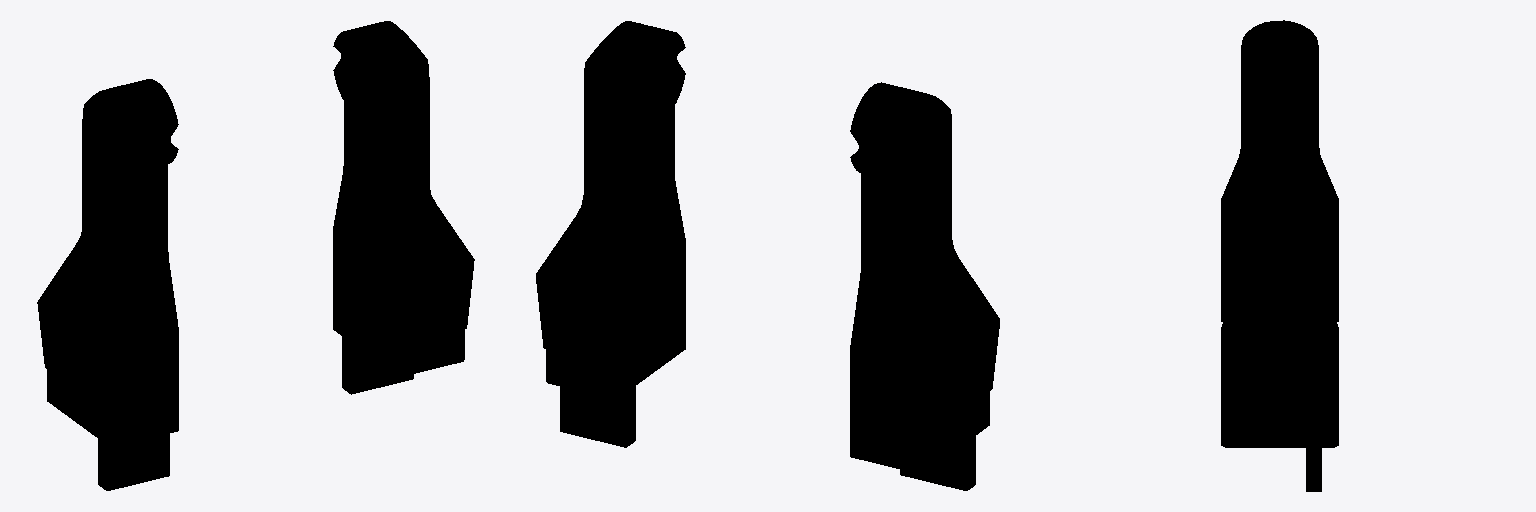
The robot description file, URDF, robot "wsg_50":
<?xml version="1.0"?>
<robot name="wsg_50" 

       xmlns:xi="http://www.w3.org/2001/XInclude"
       xmlns:gazebo="http://playerstage.sourceforge.net/gazebo/xmlschema/#gz"
       xmlns:model="http://playerstage.sourceforge.net/gazebo/xmlschema/#model"
       xmlns:sensor="http://playerstage.sourceforge.net/gazebo/xmlschema/#sensor"
       xmlns:body="http://playerstage.sourceforge.net/gazebo/xmlschema/#body"
       xmlns:geom="http://playerstage.sourceforge.net/gazebo/xmlschema/#geom"
       xmlns:joint="http://playerstage.sourceforge.net/gazebo/xmlschema/#joint"
       xmlns:interface="http://playerstage.sourceforge.net/gazebo/xmlschema/#interface"
       xmlns:rendering="http://playerstage.sourceforge.net/gazebo/xmlschema/#rendering"
       xmlns:renderable="http://playerstage.sourceforge.net/gazebo/xmlschema/#renderable"
       xmlns:controller="http://playerstage.sourceforge.net/gazebo/xmlschema/#controller"
       xmlns:physics="http://playerstage.sourceforge.net/gazebo/xmlschema/#physics">

 <!-- BASE LINK -->
 <link name="base_link">
      <inertial>
          <mass value="1.2" />
          <origin xyz="0 0 0" />
     	  <!--inertia ixx="1.0" ixy="0.0" ixz="0.0"
               iyy="100.0" iyz="0.0" 
               izz="1.0" /-->
      	  <inertia  ixx="1.0" ixy="0.0"  ixz="0.0"  iyy="1.0"  iyz="0.0"  izz="1.0" />
      </inertial>

      <visual>
          <origin xyz="0.0 0 0" rpy="0 0 0" />
          <geometry>
             <mesh filename="package://meshes/WSG50_110.stl" scale="1 1 1"/>
	     <!--box size="0.146 0.05 0.0735"/-->
          </geometry>
          <material name="grey">
		<color rgba="0.5 0.5 0.5 1"/>
      	  </material>
      </visual>

      <collision>
          <origin xyz="0.0 0 0" rpy="0 0 0" />
          <geometry>
	     <!--box size="0.146 0.05 0.0735"/-->
             <mesh filename="package://meshes/WSG50_110.stl" scale="1 1 1"/>
         </geometry>
     </collision>
  </link>

  <gazebo reference="base_link">
    <material>Gazebo/Grey</material>
    <turnGravityOff>false</turnGravityOff>
  </gazebo>

  <!-- GRIPPER LEFT -->

  <joint name="base_joint_gripper_left" type="prismatic">
     <limit lower="-0.055" upper="-0.0027" effort="1.0" velocity="1.0"/>
     <origin xyz="0 0 0" rpy="0 0 0" />      <!--origin xyz="-0.0067 0 0.049" rpy="0 0 0" /-->
     <parent link="base_link"/>
     <child link="gripper_left" />
     <dynamics friction="100" damping="100" />
     <axis xyz="1 0 0"/>
     <limit effort="100" velocity="100"/>
  </joint>

  <transmission name="base_trans_left" type="pr2_mechanism_model/SimpleTransmission">
     <actuator name="base_motor_left" />
     <joint name="base_joint_gripper_left" />
     <mechanicalReduction>1</mechanicalReduction>
     <motorTorqueConstant>1</motorTorqueConstant>
  </transmission>

  <link name="gripper_left">
      <inertial>
          <mass value="0.1" />
          <origin xyz="0 0 0" />
      <inertia ixx="1.0" ixy="0.0" ixz="0.0"
               iyy="1.0" iyz="0.0" 
               izz="1.0" />
      </inertial>

      <visual>
          <origin xyz="0.0 0 0" rpy="0 0 0" />
          <geometry>
             <mesh filename="package://meshes/GUIDE_WSG50_110.stl" scale="0.001 0.001 0.001"/>
	     <!--box size="0.0175 0.03 0.024"/-->
          </geometry>
          <material name="black">
		<color rgba="0 0 0 1"/>
      	  </material>
      </visual>

      <collision>
          <origin xyz="0 0 0" rpy="0 0 0" />
          <geometry>
	     <!--box size="0.0175 0.03 0.024"/-->
             <mesh filename="package://meshes/GUIDE_WSG50_110.stl" scale="0.001 0.001 0.001"/>
         </geometry>
     </collision>
  </link>

  <gazebo reference="gripper_left">
    <material>Gazebo/Blue</material>
    <turnGravityOff>false</turnGravityOff>
  </gazebo>


  <!-- LEFT FINGER -->

  <joint name="guide_joint_finger_left" type="fixed">
     <origin xyz="0 0 0.023" rpy="0 0 0" />
     <parent link="gripper_left"/>
     <child link="finger_left" />
     <dynamics friction="100" damping="100" />
     <axis xyz="1 0 0"/>
     <limit effort="100" velocity="100"/>
  </joint>

  <link name="finger_left">
      <inertial>
          <mass value="0.1" />
          <origin xyz="0 0 0" />
      <inertia ixx="1.0" ixy="0.0" ixz="0.0"
               iyy="1.0" iyz="0.0" 
               izz="1.0" />
      </inertial>

      <visual>
          <origin xyz="0.0 0 0" rpy="0 0 0" />
          <geometry>
             <mesh filename="package://meshes/WSG-FMF.stl" scale="0.001 0.001 0.001"/>
          </geometry>
          <material name="black">
		<color rgba="0 0 0 1"/>
      	  </material>
      </visual>

      <collision>
          <origin xyz="0 0 0" rpy="0 0 0" />
          <geometry>
             <mesh filename="package://meshes/WSG-FMF.stl" scale="0.001 0.001 0.001"/>
         </geometry>
     </collision>
  </link>

  <gazebo reference="finger_left">
    <material>Gazebo/Blue</material>
    <turnGravityOff>false</turnGravityOff>
  </gazebo>


  <!-- GRIPPER RIGHT -->

  <joint name="base_joint_gripper_right" type="prismatic">
     <limit lower="0.0027" upper="0.055" effort="1.0" velocity="1.0"/>
     <origin xyz="0 0 0" rpy="0 0 3.14159" />
     <parent link="base_link"/>
     <child link="gripper_right" />
     <axis xyz="-1 0 0"/>
     <dynamics friction="100" damping="100" />
     <limit effort="100" velocity="100"/>
  </joint>

  <transmission name="base_trans_right" type="pr2_mechanism_model/SimpleTransmission">
     <actuator name="base_motor_right" />
     <joint name="base_joint_gripper_right" />
     <mechanicalReduction>1</mechanicalReduction>
     <motorTorqueConstant>1</motorTorqueConstant>
  </transmission>
	
    <link name="gripper_right">
      <inertial>
          <mass value="0.1" />
          <origin xyz="0 0 0" />
      <inertia ixx="1.0" ixy="0.0" ixz="0.0"
               iyy="1.0" iyz="0.0" 
               izz="1.0" />
      </inertial>

      <visual>
          <origin xyz="0.0 0 0" rpy="0 0 0" />
          <geometry>
             <mesh filename="package://meshes/GUIDE_WSG50_110.stl" scale="0.001 0.001 0.001"/>
	     <!--box size="0.0175 0.03 0.024"/-->
          </geometry>
          <material name="black">
		<color rgba="0 0 0 1"/>
      	  </material>
      </visual>

      <collision>
          <origin xyz="0 0 0" rpy="0 0 0" />
          <geometry>
	     <!--box size="0.0175 0.03 0.024"/-->
             <mesh filename="package://meshes/GUIDE_WSG50_110.stl" scale="0.001 0.001 0.001"/>
         </geometry>
     </collision>
  </link>

  <gazebo reference="gripper_right">
    <material>Gazebo/White</material>
    <turnGravityOff>false</turnGravityOff>
  </gazebo>

  <!-- RIGHT FINGER -->

  <joint name="guide_joint_finger_right" type="fixed">
     <origin xyz="0 0 0.023" rpy="0 0 0" />
     <parent link="gripper_right"/>
     <child link="finger_right" />
     <dynamics friction="100" damping="100" />
     <axis xyz="1 0 0"/>
     <limit effort="100" velocity="100"/>
  </joint>

  <link name="finger_right">
      <inertial>
          <mass value="0.1" />
          <origin xyz="0 0 0" />
      <inertia ixx="1.0" ixy="0.0" ixz="0.0"
               iyy="1.0" iyz="0.0" 
               izz="1.0" />
      </inertial>

      <visual>
          <origin xyz="0.0 0 0" rpy="0 0 0" />
          <geometry>
             <mesh filename="package://meshes/WSG-FMF.stl" scale="0.001 0.001 0.001"/>
          </geometry>
          <material name="black">
		<color rgba="0 0 0 1"/>
      	  </material>
      </visual>

      <collision>
          <origin xyz="0 0 0" rpy="0 0 0" />
          <geometry>
             <mesh filename="package://meshes/WSG-FMF.stl" scale="0.001 0.001 0.001"/>
         </geometry>
     </collision>
  </link>

  <gazebo reference="finger_right">
    <material>Gazebo/White</material>
    <turnGravityOff>false</turnGravityOff>
  </gazebo>

  <!-- Gazebo controllers -->
  <!--gazebo>
     <controller:gazebo_ros_time name="gazebo_ros_time" plugin="libgazebo_ros_time.so">
       <alwaysOn>true</alwaysOn>
       <updateRate>1000.0</updateRate>
       <interface:audio name="dummy_gazebo_ros_time_iface_should_not_be_here"/>
     </controller:gazebo_ros_time-->

  <!-- PR2_ACTARRAY -->
  <gazebo>
     <controller:gazebo_ros_controller_manager name="gazebo_ros_controller_manager" plugin="libgazebo_ros_controller_manager.so">
       <alwaysOn>true</alwaysOn>
       <updateRate>1000.0</updateRate>
       <interface:audio name="gazebo_ros_controller_manager_dummy_iface" />
     </controller:gazebo_ros_controller_manager>
  </gazebo>


</robot>

--- Facts derived from the render (not from the file) ---
Views: 3 orthographic renders of the robot side by side, from view 1: azimuth 30°, elevation 25°; view 2: azimuth 150°, elevation 25°; view 3: azimuth 270°, elevation 25°.
Model wsg_50 with 5 links and 4 joints (2 prismatic, 2 fixed), rooted at base_link, posed joints at zero except 2 at the middle of their limits (base_joint_gripper_left = -0.0289, base_joint_gripper_right = 0.0289).
Visible links, largest first — view 1: finger_left, finger_right, gripper_right, gripper_left; view 2: finger_left, finger_right, gripper_right, gripper_left; view 3: finger_right, finger_left, gripper_right, gripper_left.
Link boxes in pixels (x1,y1,x2,y2): finger_left: (37, 79, 178, 415); finger_right: (333, 21, 474, 332); gripper_right: (333, 238, 464, 394); gripper_left: (47, 340, 178, 490); finger_left: (850, 82, 999, 440); finger_right: (536, 21, 685, 356); gripper_right: (546, 249, 685, 447); gripper_left: (850, 360, 989, 490); finger_right: (1221, 124, 1338, 418); finger_left: (1221, 20, 1338, 258); gripper_right: (1221, 381, 1338, 491); gripper_left: (1221, 236, 1338, 321).
Size in the robot's own frame: 0.0977 by 0.03 by 0.0941 metres.
4 mesh visuals loaded from 3 distinct referenced files (2 binary STL); not drawn: 1 (reference not matched to a file when rendering).
